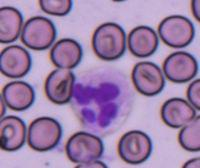N: (69, 66, 134, 132)
